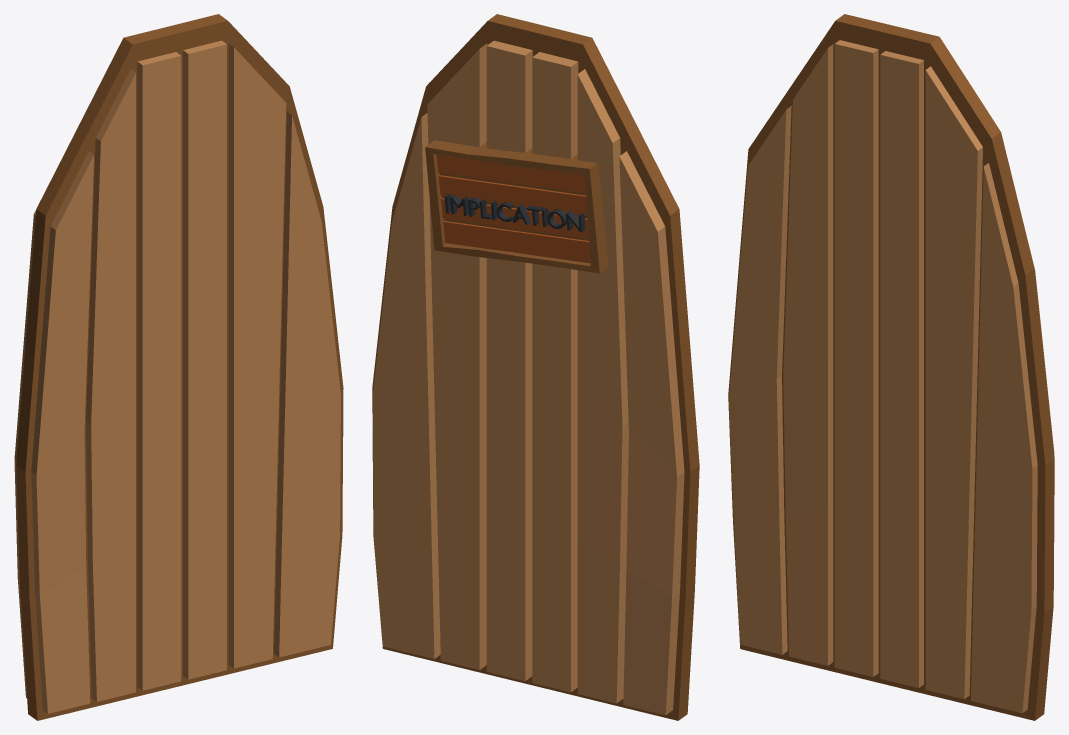
The model's file is IMPLICATIONDOOR.fbx.
The picture shows the model from 3 angles, left to right: view 1: azimuth 30°, elevation 25°; view 2: azimuth 150°, elevation 25°; view 3: azimuth 330°, elevation 25°; orthographic projection.
Visible parts, largest first — view 1: Cube.222; view 2: Cube.222; view 3: Cube.222.
Boxes of the visible parts, box(x1,y1,x2,y2) form: Cube.222: box(14, 14, 343, 720); Cube.222: box(372, 14, 699, 720); Cube.222: box(728, 14, 1054, 720).
Size of the model in its own units: 318 by 625 by 54.19.
